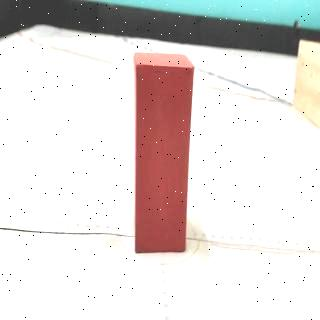redbox: (133, 50, 195, 254)
